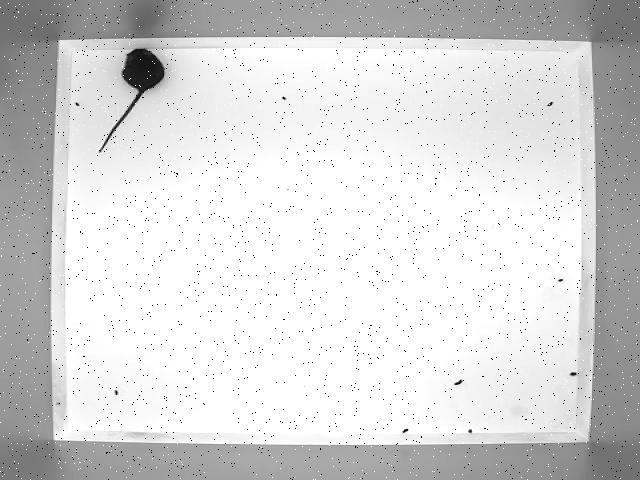Tikus: (97, 44, 183, 154)
